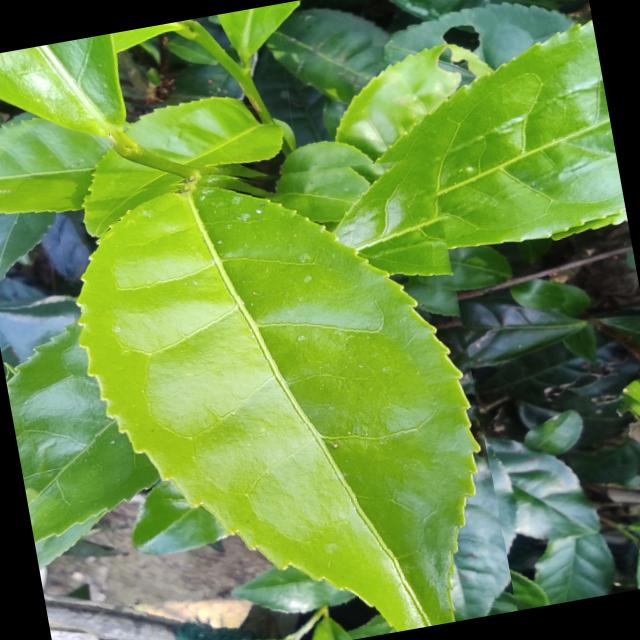Category B(2-4 days): (52, 129, 517, 640)
